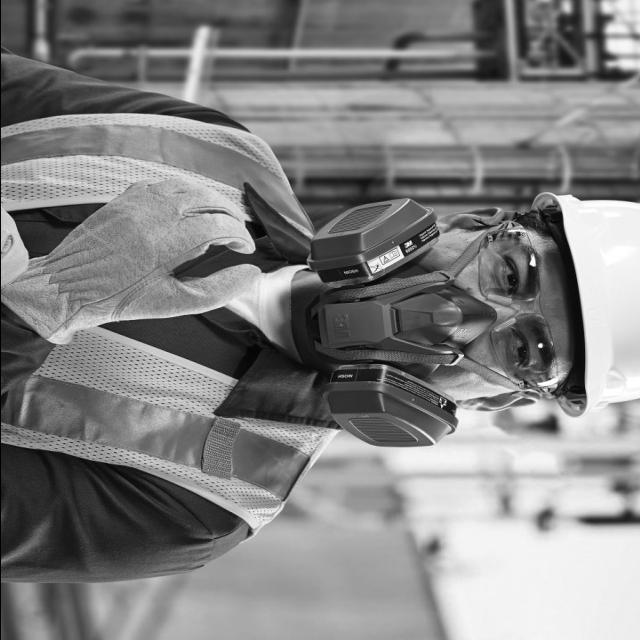safety_helmet: (555, 195, 640, 418)
